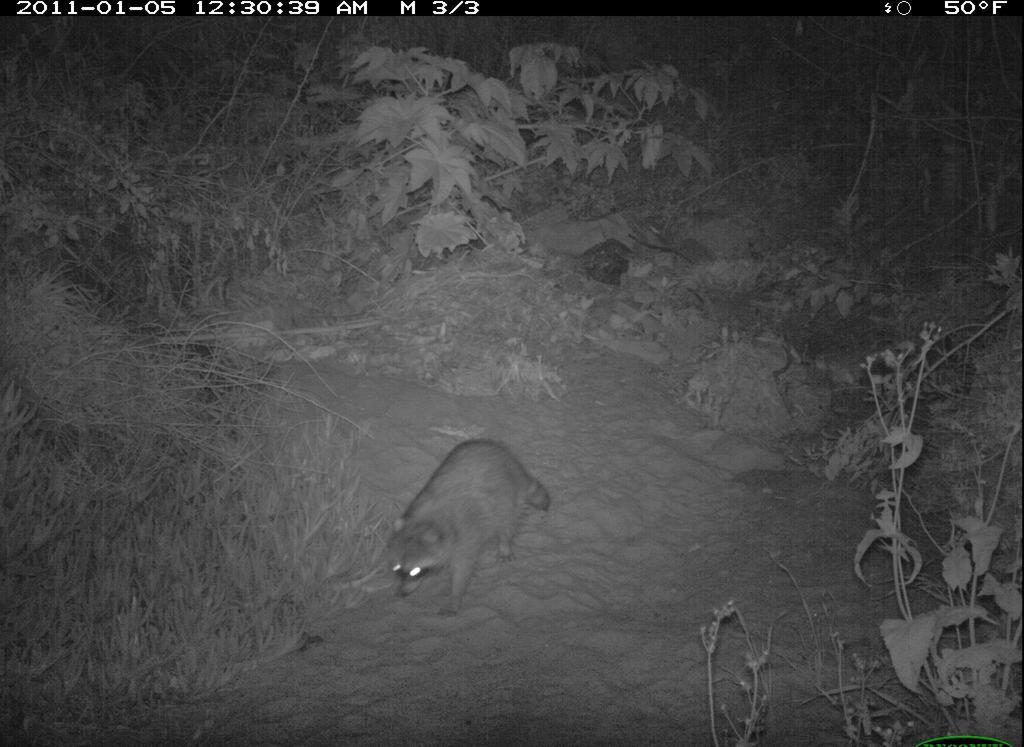raccoon: (372, 431, 561, 625)
